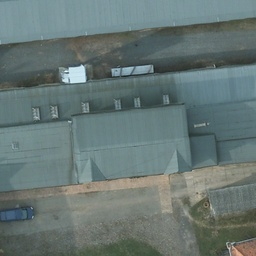car: (1, 206, 34, 223)
